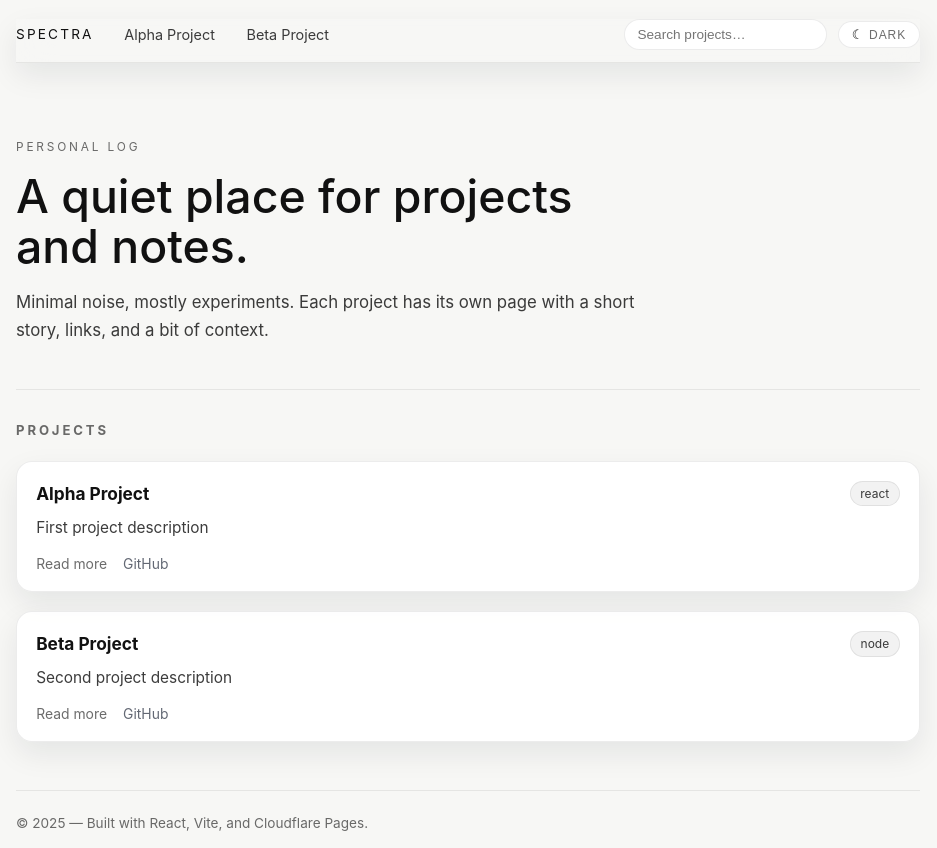
Test: App › filters projects as the user types in the search input
The width and height of the screenshot is (937, 848).
In the search field with placeholder "Search projects…": (726, 35) left=624, top=19, right=828, bottom=50, type "Beta"
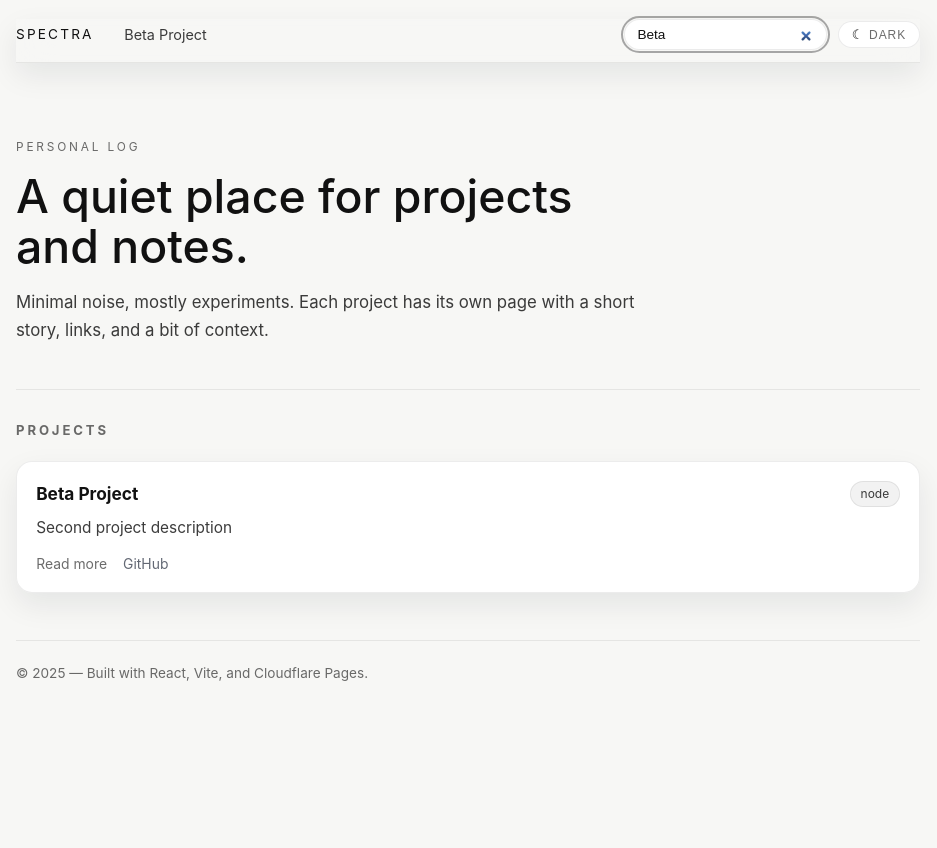
Check: the link "Beta Project" next to "spectra" is shown, box left=124, top=26, right=207, bottom=43
Check: the link "Alpha Project" is gone
